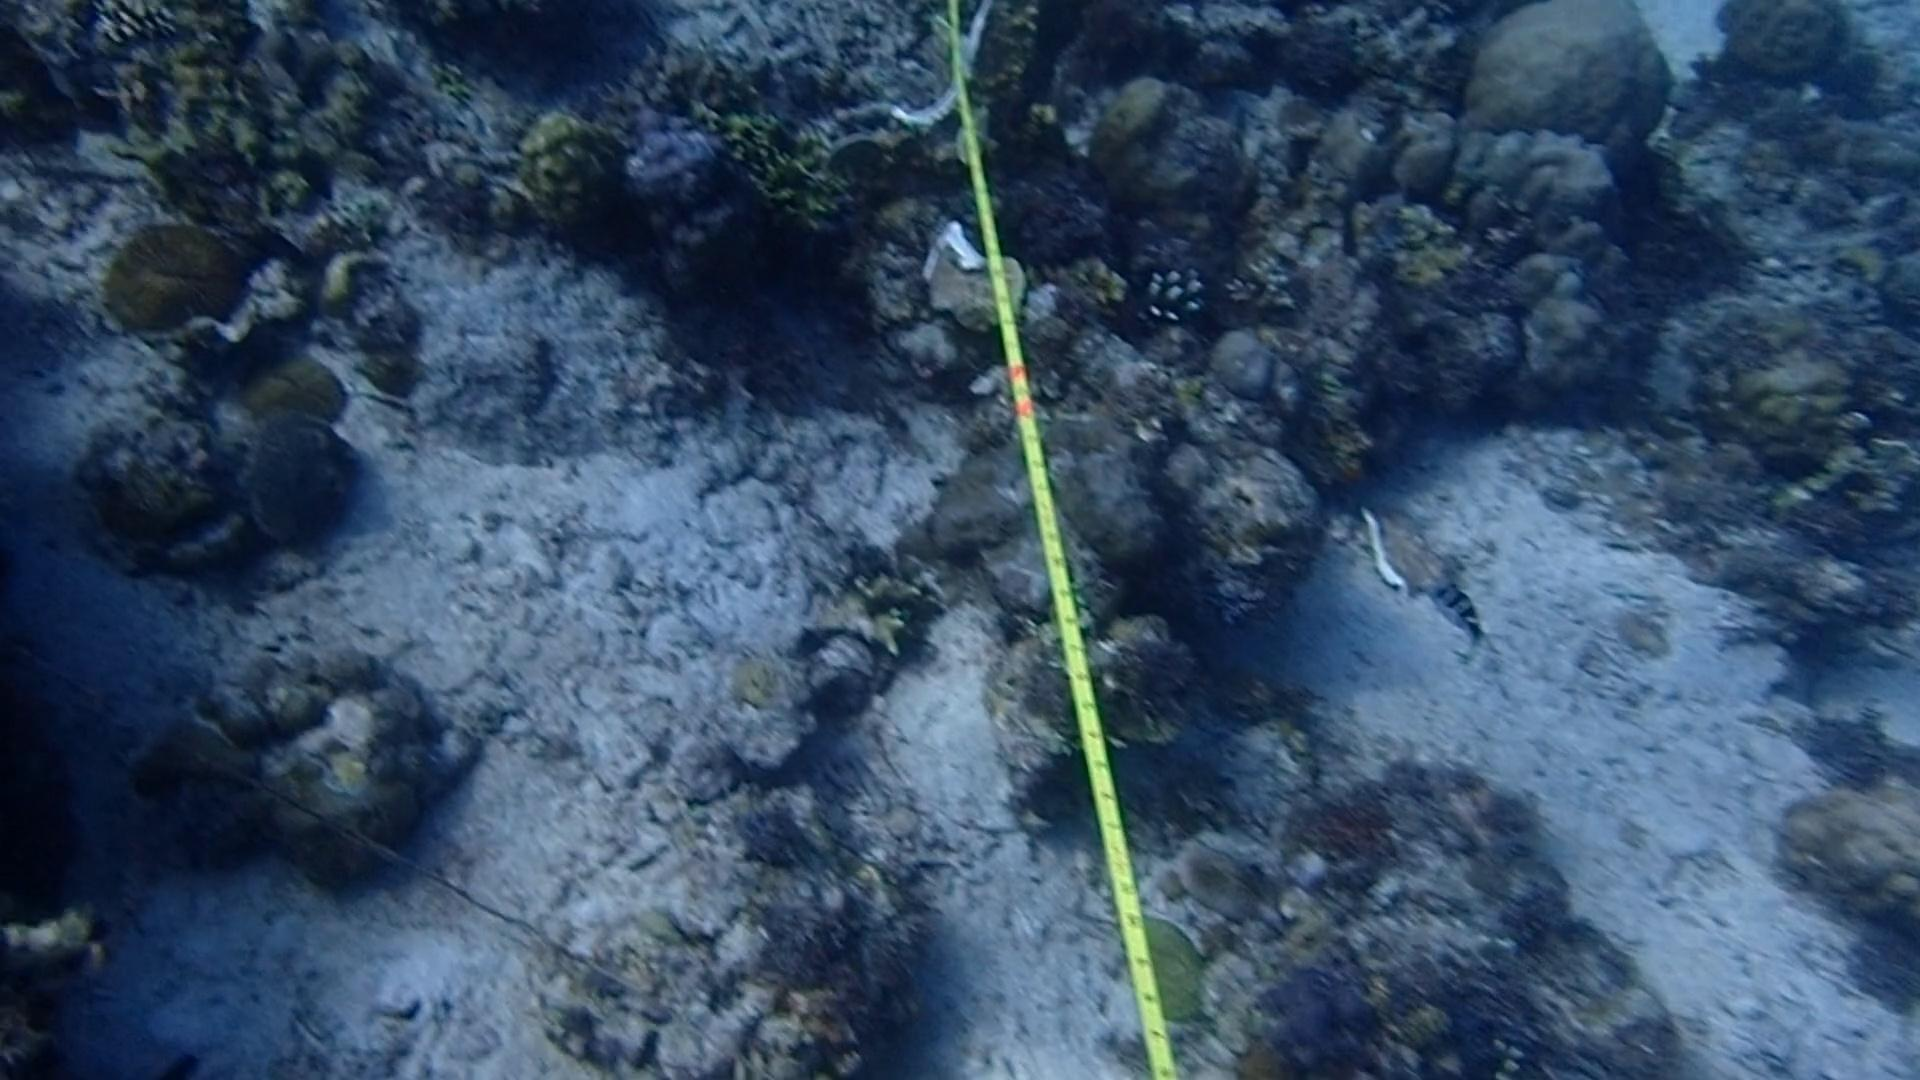Striped Fish: (1418, 571, 1509, 670)
